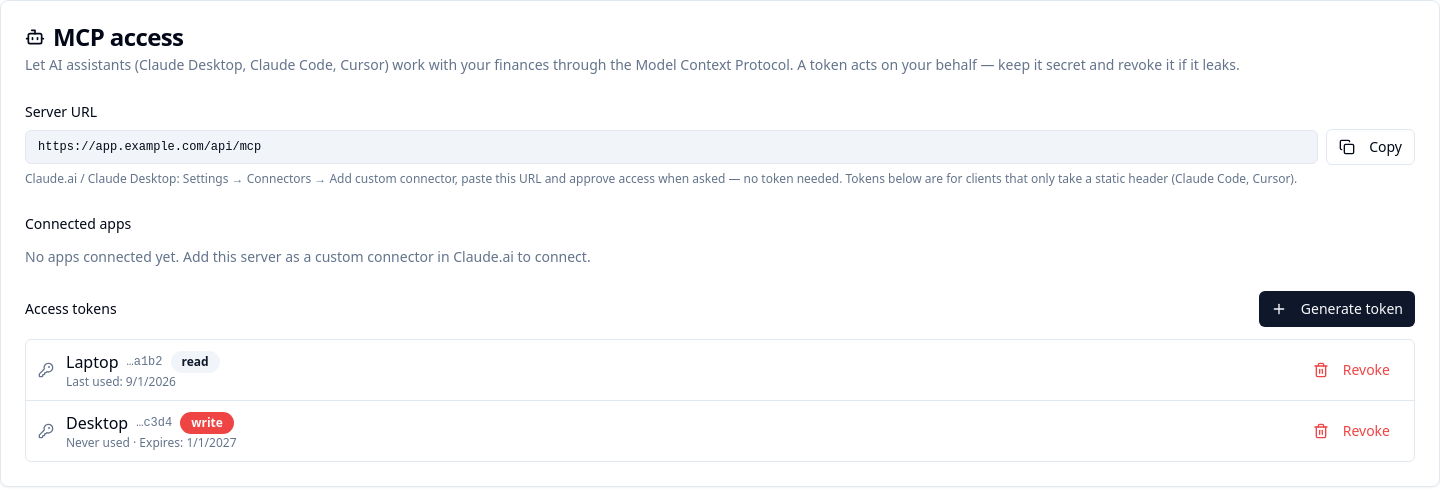
Test: McpTokensSettings › revokes a token after inline confirmation
This screenshot has width=1440, height=504.
Click the button with aria-label "Revoke Laptop". click: point(1351, 370)
box: [1301,352,1402,388]
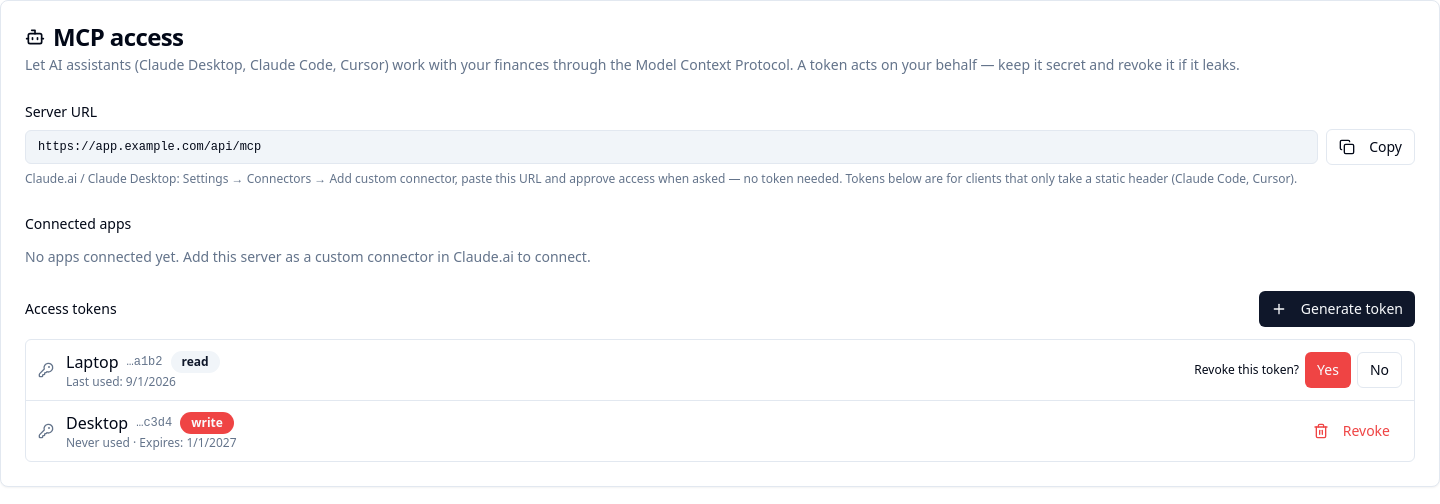
Check: the text "Revoke this token?" is shown, box [1194,362,1299,378]
Click the button "Yes". click: point(1328, 370)
box: [1305,352,1351,388]
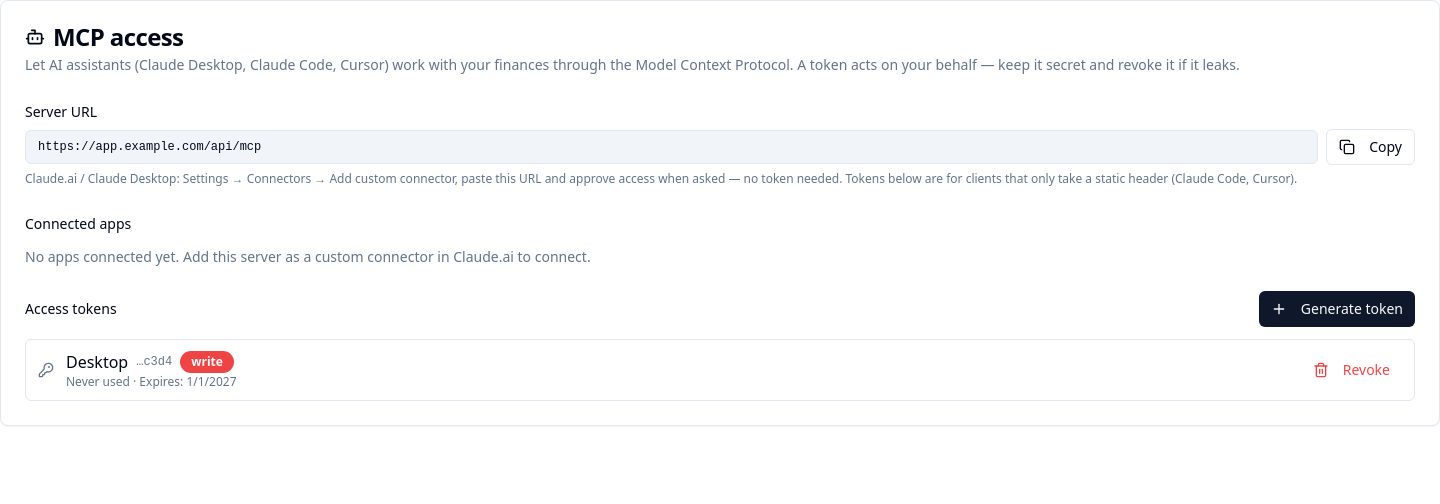
Check: the text "Desktop" is shown, box [66,350,128,374]
Check: the text "Laptop" is gone
